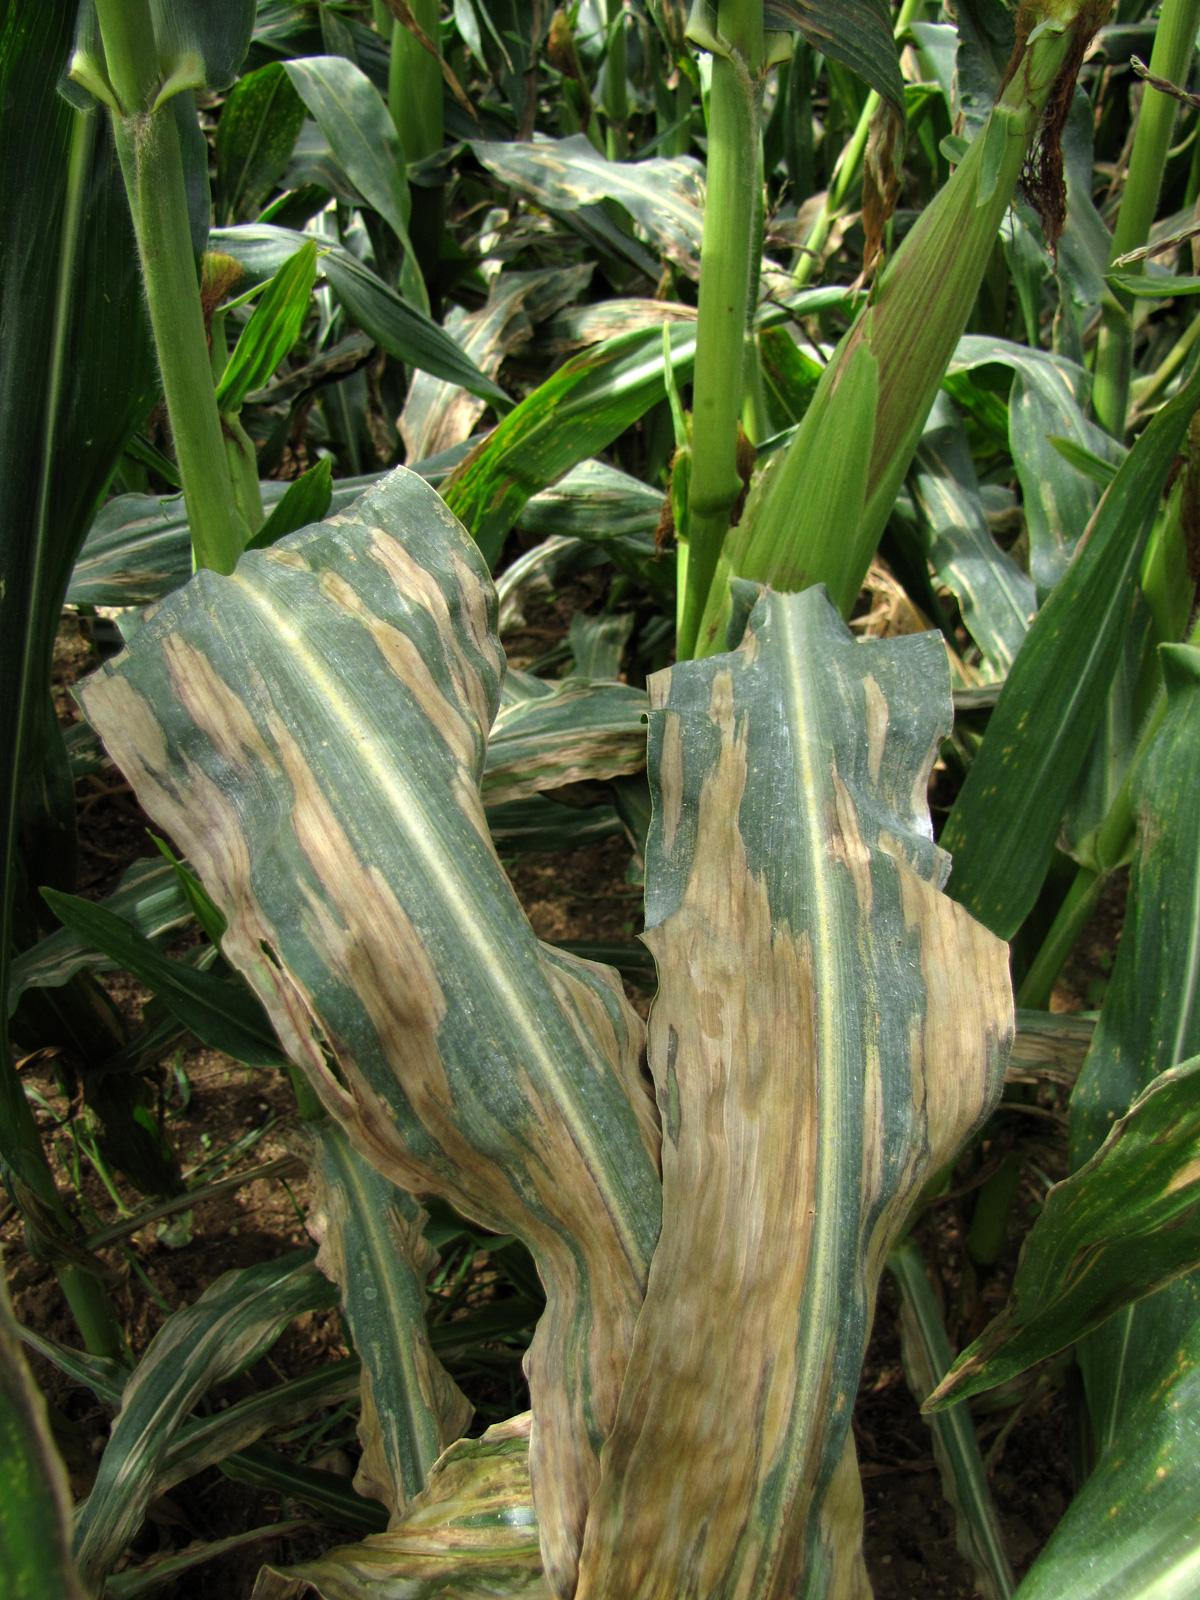Corn leaf blight: (79, 551, 630, 1584), (618, 624, 978, 1600)
